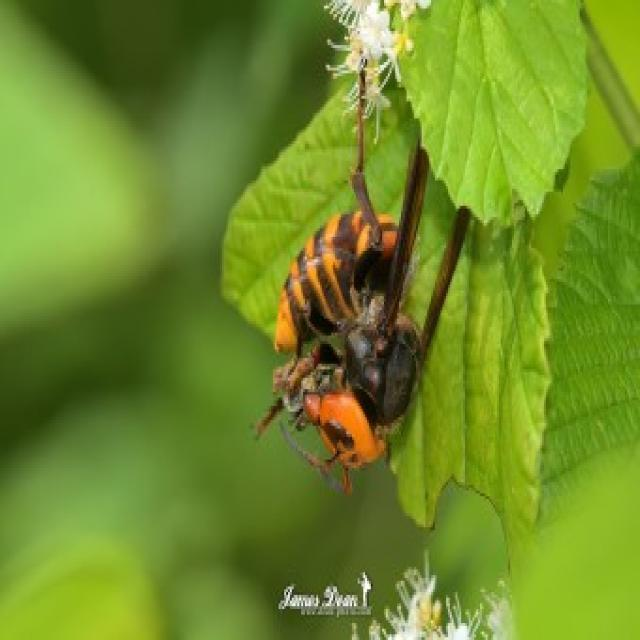Wasp: (263, 173, 480, 492)
